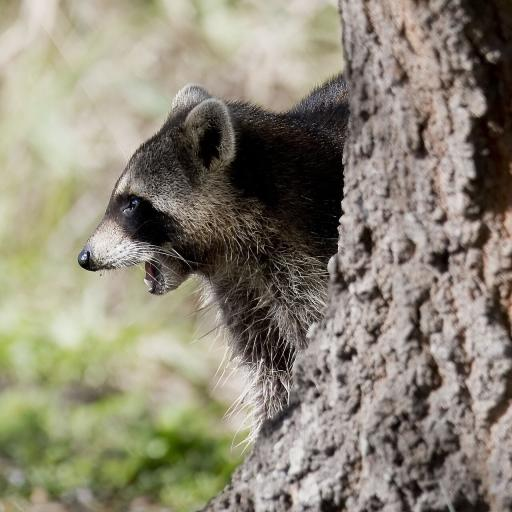raccoon: (79, 76, 348, 434)
